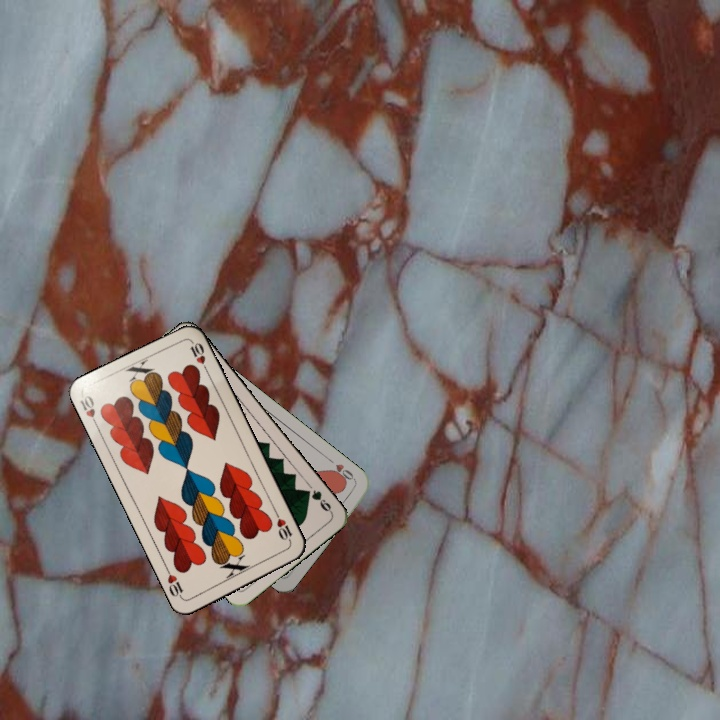G9: (300, 486, 335, 515)
H10: (76, 391, 101, 430), (271, 508, 295, 546)
HO: (324, 454, 358, 486)
